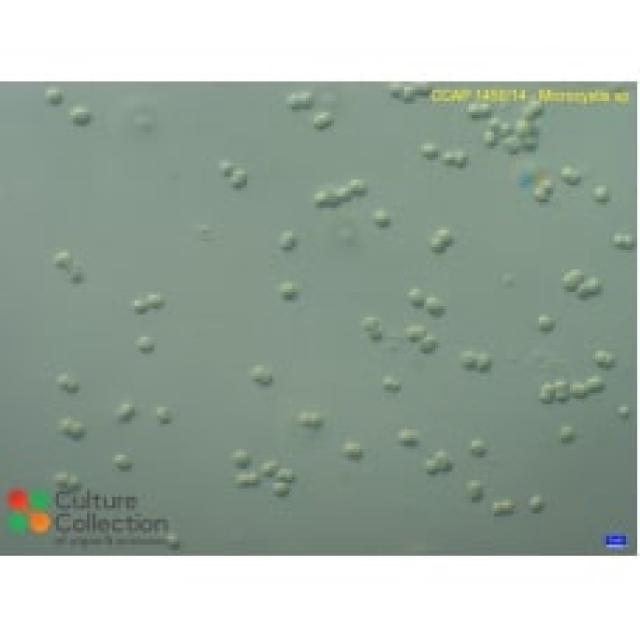Blue Green Algae: (250, 362, 275, 387), (559, 266, 581, 294), (421, 295, 449, 317), (143, 292, 169, 314), (466, 477, 486, 505), (42, 84, 65, 107), (435, 224, 455, 250), (278, 278, 300, 300), (427, 233, 449, 255), (539, 379, 556, 407), (340, 441, 365, 460), (112, 449, 132, 472), (115, 401, 138, 421), (435, 449, 452, 475), (70, 104, 90, 126), (528, 185, 550, 205), (65, 421, 87, 441), (351, 174, 370, 197), (152, 404, 171, 427), (312, 110, 334, 129), (469, 438, 488, 460), (398, 84, 416, 107), (460, 348, 478, 371), (230, 168, 250, 188), (404, 286, 424, 306), (567, 382, 592, 398), (418, 337, 441, 354), (312, 188, 331, 208), (278, 230, 297, 250), (474, 351, 494, 370), (135, 334, 157, 351), (452, 148, 472, 166), (272, 480, 292, 497), (592, 185, 609, 205), (334, 183, 351, 202), (374, 208, 391, 227), (536, 312, 553, 331), (306, 410, 323, 429), (362, 314, 379, 332), (278, 466, 295, 483), (483, 126, 497, 146), (522, 101, 536, 121), (418, 143, 438, 157), (590, 376, 604, 396), (528, 494, 542, 514), (284, 90, 298, 109), (558, 163, 572, 182), (132, 295, 146, 314), (244, 469, 258, 488), (300, 87, 312, 109), (499, 497, 514, 514), (506, 134, 520, 152), (216, 157, 228, 177), (466, 98, 480, 115), (539, 174, 553, 191), (56, 472, 70, 488), (56, 374, 68, 391), (492, 500, 502, 519), (488, 115, 499, 129), (497, 121, 511, 132)
